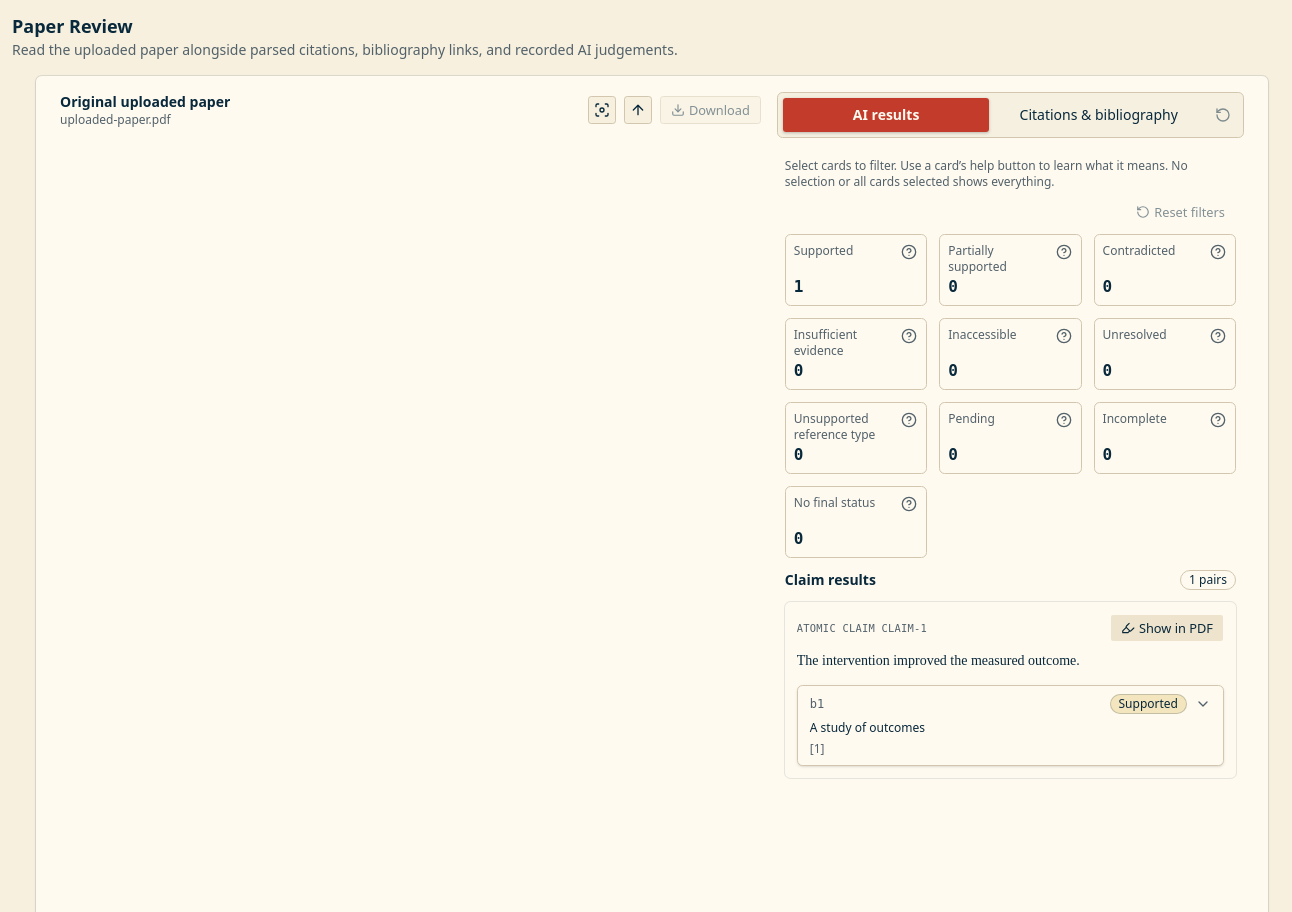
Test: Analysis Run Paper Review › highlights an atomic claim from its Claim results card in the original PDF
Click the button "Show in PDF": [1167, 628] box [1110,614,1224,642]
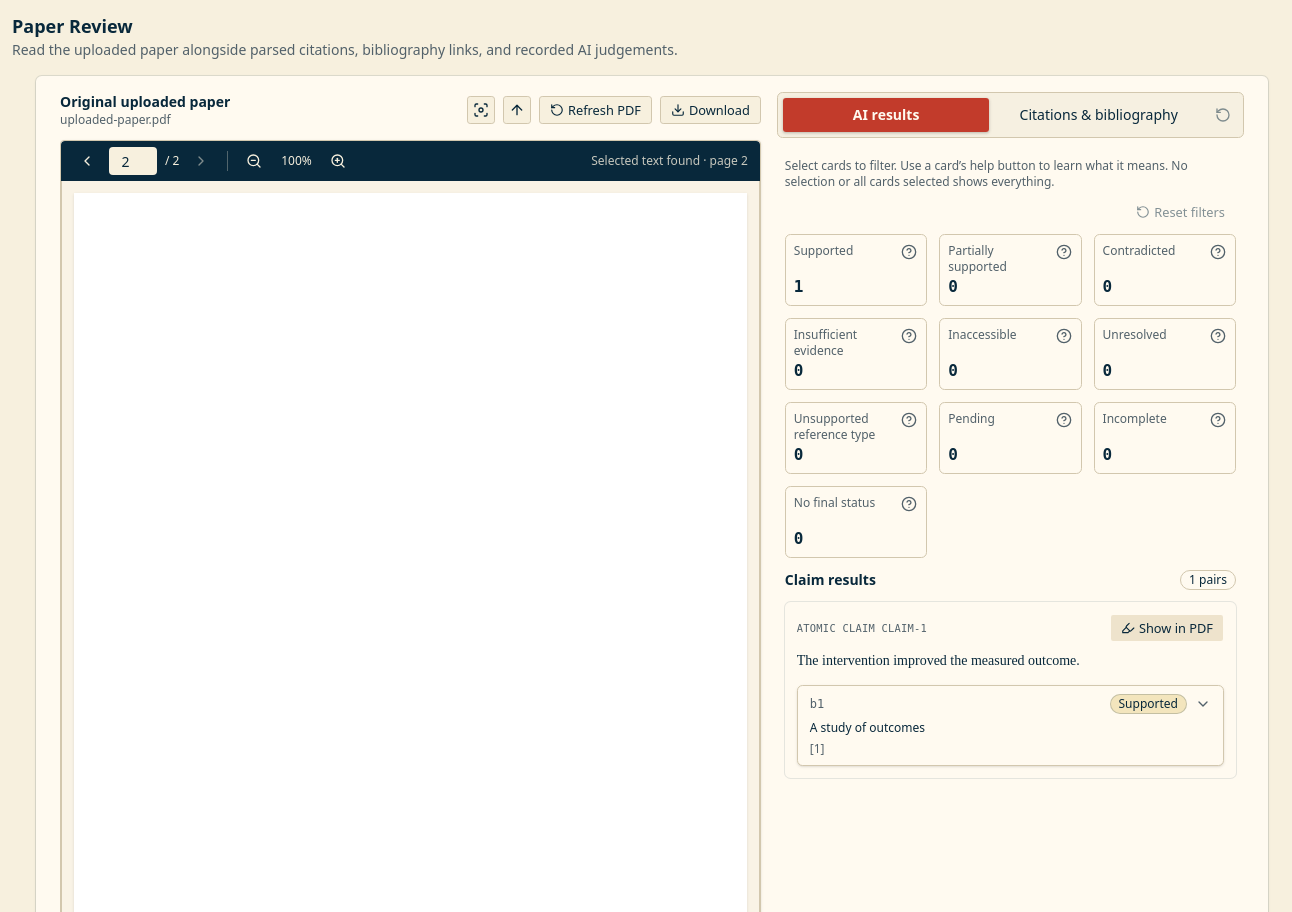
Expected: the number field named "PDF page number" holds "2", [109,147,157,175]
Expected: the text "Selected text found · page 2" is shown, [591,152,748,169]
